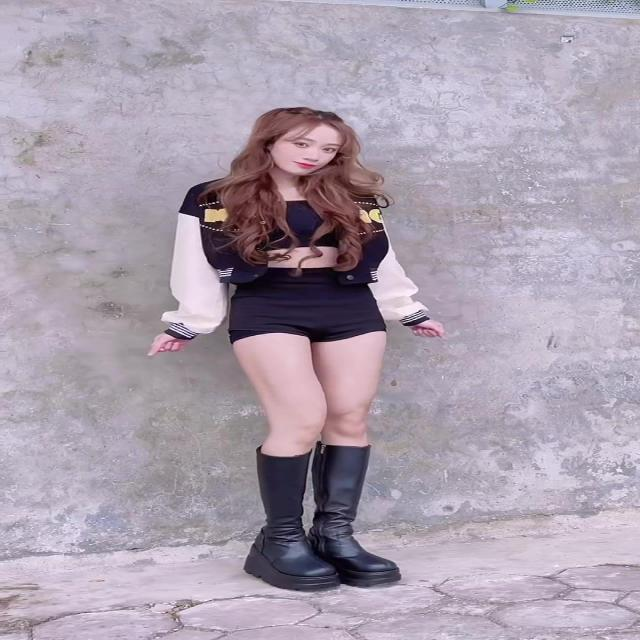clothes: (164, 165, 452, 363)
